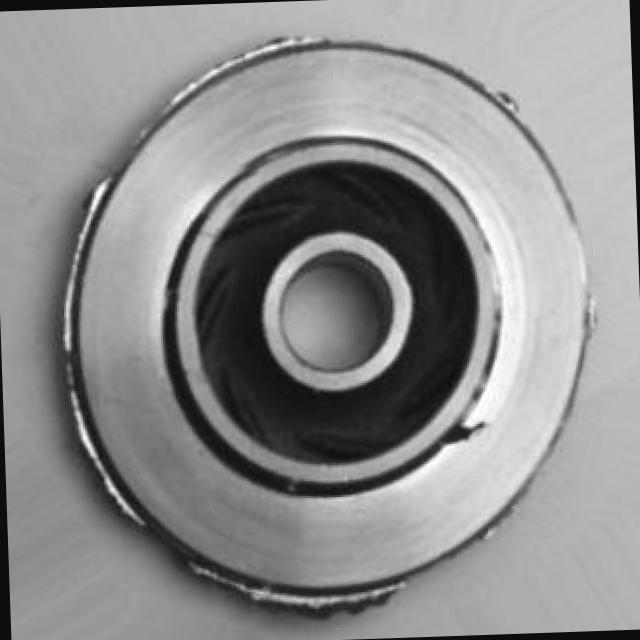Defect: (64, 178, 126, 229), (440, 408, 494, 450)
